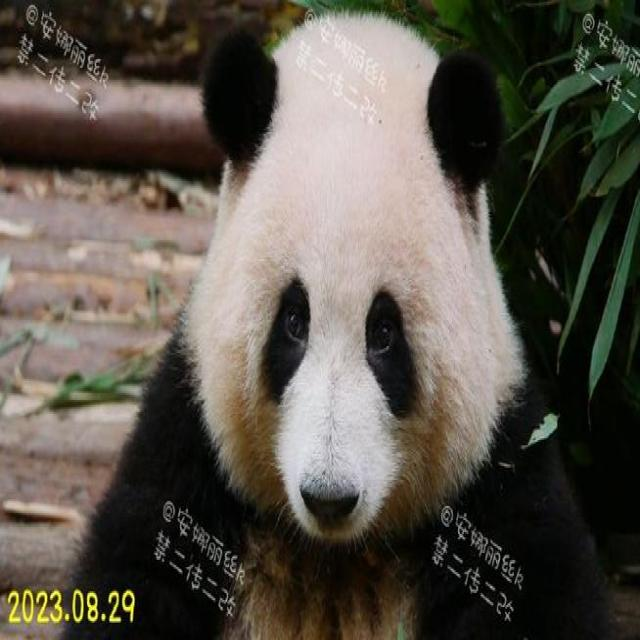panda: (141, 17, 564, 640)
